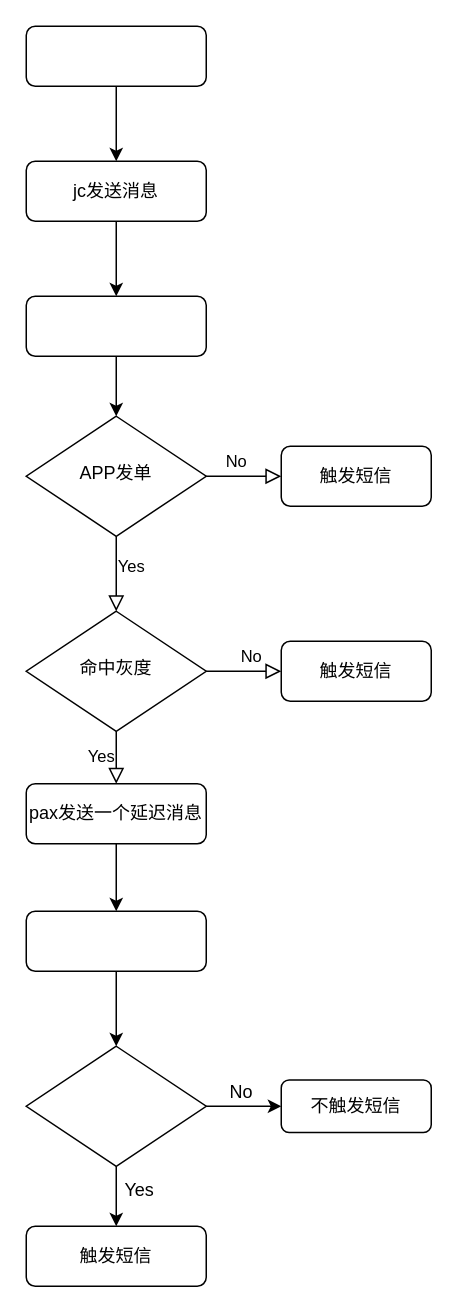
Some shapes in this 458 by 1313 pixel diagram are drawn without their labels. Here are the shapes that lost their labels. From the top down, the centre of each, then its label:
the point at 115,55: 接单
the point at 115,325: pax接收jc发的消息
the point at 115,940: pax接收延迟消息
the point at 115,1105: 判断状态是否变更
